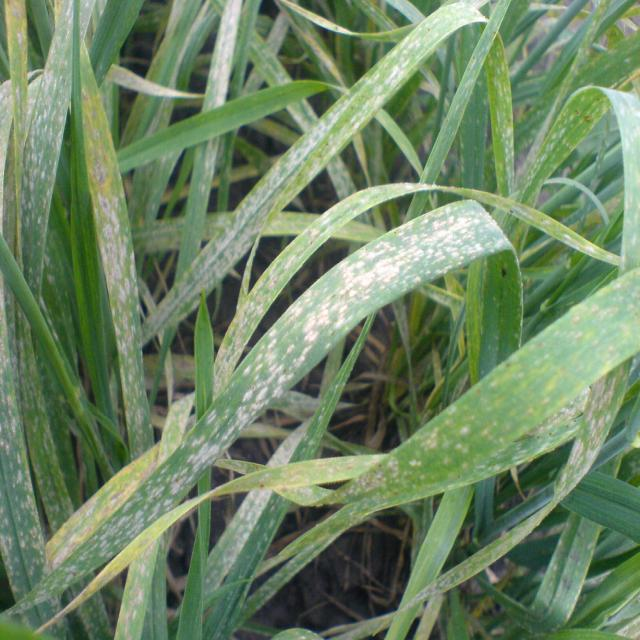wheat-powdery-mildew: (1, 196, 511, 617), (212, 268, 640, 629), (143, 0, 490, 348), (214, 184, 426, 401), (81, 43, 155, 460), (513, 85, 640, 274), (5, 284, 75, 532), (0, 272, 50, 603), (21, 0, 74, 304), (45, 442, 160, 569), (204, 490, 271, 596), (114, 536, 161, 640), (201, 1, 241, 112), (488, 35, 515, 196), (159, 391, 196, 460), (19, 597, 60, 632), (39, 617, 66, 640)
